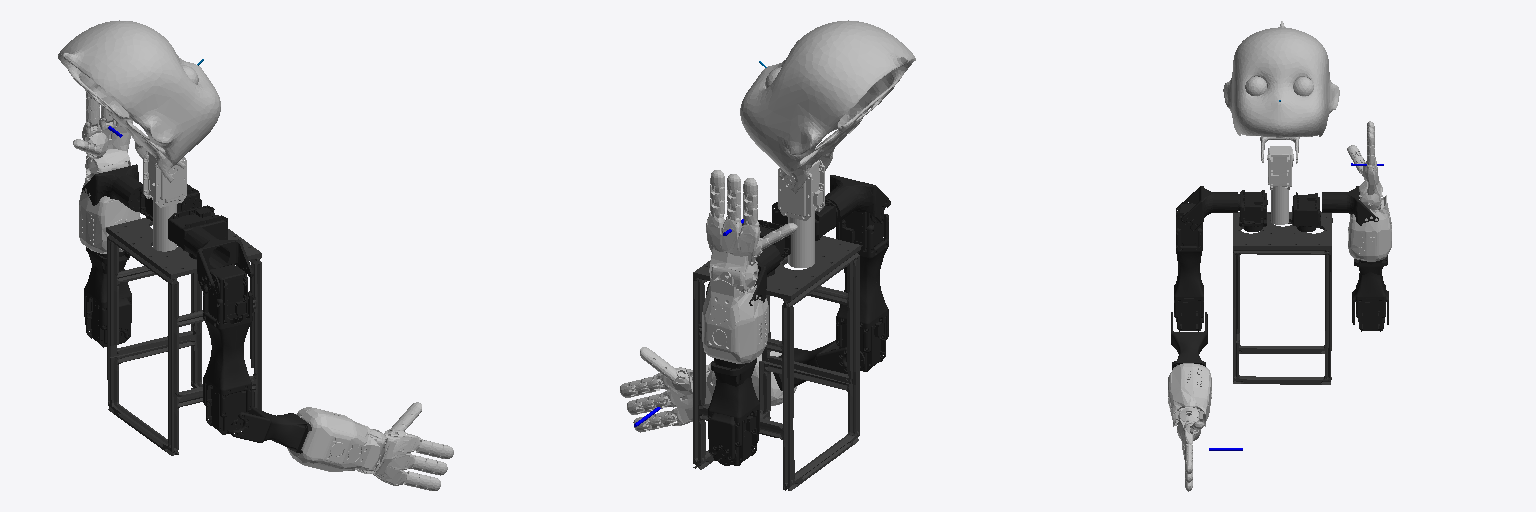
URDF robot description (nico_upper_rh6d):
<?xml version="1.0" ?>
<!-- =================================================================================== -->
<!-- |    This document was manually created   and the meshes resized and repositioned | -->
<!-- |    EDITING THIS FILE BY HAND IS NOT RECOMMENDED                                 | -->
<!-- =================================================================================== -->
<!--
  Copyright (c) 2023, [author]
  All rights reserved.

  This work is licensed under the Creative Commons Attribution-NonCommercial-NoDerivs 3.0 Unported License.
  To view a copy of this license, visit http://creativecommons.org/licenses/by-nc-nd/3.0/ or send a letter to
  Creative Commons, 444 Castro Street, Suite 900, Mountain View, California, 94041, USA.
-->
<robot name="nico_upper_rh6d">
	<link name="world" />
	<link name="torso">
		<visual>
			<geometry>
				<mesh filename="mesh/torso.stl"/>
			</geometry>
			<origin rpy="0 0 0" xyz="0.0 0.0 0.0"/>
			<material name="torso_color">
				<color rgba="0.270588 0.270588 0.270588 1"/>
			</material>
		</visual>
		<inertial>
			<mass value="0.090439"/>
			<inertia ixx="0.00006" ixy="-0" ixz="-0" iyy="0.000056" iyz="-0.000001" izz="0.000019"/>
			<origin rpy="0 0 0" xyz="0 0.000266 0.050352"/>
		</inertial>

	</link>
	<joint name="world_to_base_link" type="fixed">
    	<parent link="world"/>
    	<child link="torso"/>
  	</joint>
    <link name="neck">
		<visual>
			<geometry>
				<mesh filename="mesh/neck.stl"/>
			</geometry>
			<origin rpy="0 0 0" xyz="0.0 0.0 0.0"/>
			<material name="neck_color">
				<color rgba="0.74902 0.74902 0.74902 1"/>
			</material>
		</visual>
		<collision>
			<geometry>
				<mesh filename="mesh/neck.stl"/>
			</geometry>
			<origin rpy="0 0 0" xyz="0.0 0.0 0.0"/>
		</collision>
		<inertial>
			<mass value="0.090439"/>
			<inertia ixx="0.00006" ixy="-0" ixz="-0" iyy="0.000056" iyz="-0.000001" izz="0.000019"/>
			<origin rpy="0 0 0" xyz="0 0.000266 0.050352"/>
		</inertial>
	</link>
	<joint name="head_z" type="fixed">
		<parent link="torso"/>
		<child link="neck"/>
		<origin rpy="0 0 0" xyz="-0.025 0.000 0.23"/>
		<axis xyz="0 0 1"/>
		<limit effort="30" lower="-1.5707" upper="1.5707" velocity="1"/>
	</joint>
	<link name="head">
		<visual>
			<geometry>
				<mesh filename="mesh/head.stl"/>
			</geometry>
			<origin rpy="0 0 0" xyz="0 0 0"/>
			<material name="head_color">
				<color rgba="0.74902 0.74902 0.74902 1"/>
			</material>
		</visual>
		<collision>
			<geometry>
				<mesh filename="mesh/head.stl"/>
			</geometry>
			<origin rpy="0 0 0" xyz="0 0 0"/>
		</collision>
		<inertial>
			<mass value="0.294137"/>
			<inertia ixx="0.001424" ixy="-0" ixz="0.000083" iyy="0.00159" iyz="-0.000002" izz="0.001485"/>
			<origin rpy="0 0 0" xyz="0.01525 -0.023771 0.09423"/>
		</inertial>
	</link>
	<joint name="head_y" type="fixed">
		<parent link="neck"/>
		<child link="head"/>
		<origin rpy="0 -0.69 0" xyz="0 0.0 0.105"/>
		<axis xyz="0 -1 0"/>
		<limit effort="30" lower="-1.483" upper="0" velocity="1"/>
	</joint>
	<link name="sight">
    	<visual>
      		<origin rpy="0 1.67 0" xyz="0.1 0.0 0.06"/>
      		<geometry>
        		<cylinder radius="0.001" length = "0.03"/>
      		</geometry>
    	</visual>
		<inertial>
			<mass value="0.000009"/>
			<inertia ixx="0" ixy="0" ixz="-0" iyy="0" iyz="0" izz="0"/>
			<origin rpy="0 0 0" xyz="0.005409 0.000556 -0.005751"/>
		</inertial>
  	</link>
	<joint name="eyesight" type="fixed">
		<parent link="head"/>
		<child link="sight"/>
		<origin rpy="0 0 0" xyz="0 0.0 0.0"/>
		<axis xyz="0 0 0"/>
		<limit effort="30" lower="-0.8726" upper="0.4363" velocity="1"/>
	</joint>
	
    <!-- ====RIGHT ARM=== -->
	<link name="right_shoulder">
		<visual>
			<geometry>
				<mesh filename="mesh/right_shoulder.stl"/>
			</geometry>
			<origin rpy="0 0 0" xyz="0 0 0"/>
			<material name="right_shoulder_color">
				<color rgba="0.176471 0.176471 0.176471 1"/>
			</material>
		</visual>
		<collision>
			<geometry>
				<mesh filename="mesh/right_shoulder.stl"/>
			</geometry>
			<origin rpy="0 0 0" xyz="0 0 0"/>
		</collision>
		<inertial>
			<mass value="0.084038"/>
			<inertia ixx="0.000026" ixy="-0.000001" ixz="-0.000002" iyy="0.000034" iyz="-0" izz="0.000033"/>
			<origin rpy="0 0 0" xyz="0.005637 0.000876 0.033153"/>
		</inertial>
	</link>
	<joint name="r_shoulder_z_rjoint" type="revolute">
		<parent link="torso"/>
		<child link="right_shoulder"/>
		<origin rpy="0 0 0" xyz="0.000 -0.040 0.23"/>
		<axis xyz="0 0 1"/>
		<limit effort="30" lower="-0.4363" upper="1.3963" velocity="1"/>
	</joint>
	<link name="right_collarbone">
		<visual>
			<geometry>
				<mesh filename="mesh/right_collar.stl"/>
			</geometry>
			<origin rpy="0 0 0" xyz="0 0 0"/>
			<material name="right_collarbone_color">
				<color rgba="0.176471 0.176471 0.176471 1"/>
			</material>
		</visual>
		<collision>
			<geometry>
				<mesh filename="mesh/right_collar.stl"/>
			</geometry>
			<origin rpy="0 0 0" xyz="0 0 0"/>
		</collision>
		<inertial>
			<mass value="0.024811"/>
			<inertia ixx="0.000014" ixy="-0" ixz="0" iyy="0.000011" iyz="-0.000001" izz="0.000019"/>
			<origin rpy="0 0 0" xyz="-0 -0.041345 -0.002364"/>
		</inertial>
	</link>
	<joint name="r_shoulder_y_rjoint" type="revolute">
		<parent link="right_shoulder"/>
		<child link="right_collarbone"/>
		<origin rpy="0 0 0" xyz="-0.021 -0.023 0.033"/>
		<axis xyz="0 -1 0"/>
		<limit effort="30" lower="-1.5707" upper="3.1416" velocity="1"/>
	</joint>
	<link name="right_upper_arm">
		<visual>
			<geometry>
				<mesh filename="mesh/right_upper_arm.stl"/>
			</geometry>
			<origin rpy="0 0 0" xyz="0 0 0"/>
			<material name="right_upper_arm_color">
				<color rgba="0.176471 0.176471 0.176471 1"/>
			</material>
		</visual>
		<collision>
			<geometry>
				<mesh filename="mesh/right_upper_arm.stl"/>
			</geometry>
			<origin rpy="0 0 0" xyz="0 0 0"/>
		</collision>
		<inertial>
			<mass value="0.189729"/>
			<inertia ixx="0.000851" ixy="0" ixz="0" iyy="0.000851" iyz="-0.000005" izz="0.000048"/>
			<origin rpy="0 0 0" xyz="-0.02306 -0.000321 -0.0866"/>
		</inertial>
	</link>
	<joint name="r_arm_x_rjoint" type="revolute">
		<parent link="right_collarbone"/>
		<child link="right_upper_arm"/>
		<origin rpy="0 0 0" xyz="0.00 -0.073 -0.023"/>
		<axis xyz="-1 0 0"/>
		<limit effort="30" lower="0" upper="1.2217" velocity="1"/>
	</joint>
	<link name="right_lower_arm">
		<visual>
			<geometry>
				<mesh filename="mesh/right_lower_arm.stl"/>
			</geometry>
			<origin rpy="0 0 0" xyz="0 0 0"/>
			<material name="right_lower_arm_color">
				<color rgba="0.176471 0.176471 0.176471 1"/>
			</material>
		</visual>
		<collision>
			<geometry>
				<mesh filename="mesh/right_lower_arm.stl"/>
			</geometry>
			<origin rpy="0 0 0" xyz="0 0 0"/>
		</collision>
		<inertial>
			<mass value="0.076793"/>
			<inertia ixx="0.000104" ixy="-0" ixz="-0" iyy="0.000095" iyz="-0.000002" izz="0.000021"/>
			<origin rpy="0 0 0" xyz="0 0.022485 -0.081055"/>
		</inertial>
	</link>
	<joint name="r_elbow_y_rjoint" type="revolute">
		<parent link="right_upper_arm"/>
		<child link="right_lower_arm"/>
		<origin rpy="0 3.14 0" xyz="0.0 0 -0.17"/>
		<axis xyz="0 1 0"/>
		<limit effort="30" lower="0.8726" upper="3.1416" velocity="1"/>
	</joint>
	<link name="right_wrist">
		<visual>
			<geometry>
				<mesh filename="mesh/right_wrist.stl"/>
			</geometry>
			<origin rpy="0 0 0" xyz="0 0 0"/>
			<material name="right_wrist_color">
				<color rgba="0.74902 0.74902 0.74902 1"/>
			</material>
		</visual>
		<collision>
			<geometry>
				<mesh filename="mesh/right_wrist.stl"/>
			</geometry>
			<origin rpy="0 0 0" xyz="0 0 0"/>
		</collision>
		<inertial>
			<mass value="0.028397"/>
			<inertia ixx="0.000043" ixy="-0" ixz="0.000004" iyy="0.000058" iyz="-0.000007" izz="0.000029"/>
			<origin rpy="0 0 0" xyz="0.000031 -0.011056 -0.0675"/>
		</inertial>
	</link>
	<joint name="r_wrist_z_rjoint" type="revolute">
		<parent link="right_lower_arm"/>
		<child link="right_wrist"/>
		<origin rpy="0 0 1.5707" xyz="0 0 -0.105"/>
		<axis xyz="0 0 1"/>
		<limit effort="30" lower="-1.5707" upper="1.5707" velocity="1"/>
	</joint>
	<link name="gripper"> <!--gripper-->
		<visual>
			<geometry>
				<mesh filename="mesh/right_palm.stl"/>
			</geometry>
			<origin rpy="0 0 0" xyz="0 0 0"/>
			<material name="gripper_color">
				<color rgba="0.74902 0.74902 0.74902 1"/>
			</material>
		</visual>
		<!--
		<collision>
			<geometry>
				<mesh filename="mesh/right_palm.stl"/>
			</geometry>
			<origin rpy="0 0 0" xyz="0 0 0"/>
		</collision>
		-->
		<inertial>
			<mass value="0.005332"/>
			<inertia ixx="0.000015" ixy="0.000001" ixz="-0.000004" iyy="0.000017" iyz="0.000004" izz="0.000006"/>
			<origin rpy="0 0 0" xyz="-0.029511 0.002253 -0.023968"/>
		</inertial>
	</link>
	<joint name="r_wrist_x_rjoint" type="revolute">
		<parent link="right_wrist"/>
		<child link="gripper"/>
		<origin rpy="0 0 0" xyz="0 0 -0.10"/>
		<axis xyz="0 -1 0"/>
		<limit effort="30" lower="-0.785398163" upper="0.785398163" velocity="1"/>
	</joint>
	<link name="endeffector">
    	<visual>
      		<origin rpy="0 0 0" xyz="0 0.0 -0.025"/> <!-- Updated position -->
      		<geometry>
        		<cylinder length="0.05" radius="0.002"/>
      		</geometry>
			<material name="blue">
      			<color rgba="0 0 1 0.5"/> <!-- RGBA: Red Green Blue Alpha (opacity) -->
    		</material>
    	</visual>
        <inertial>
		    <mass value="0.0000332"/>
		    <inertia ixx="0.000015" ixy="0.000001" ixz="-0.000004" iyy="0.000017" iyz="0.000004" izz="0.000006"/>
		</inertial>
  	</link>
	<joint name="endeffector_joint" type="fixed">
    	<parent link="gripper"/>
    	<child link="endeffector"/>
    	<origin rpy="3.14 1.57 0" xyz="0.03 0.0 -0.05"/>
	</joint>

	<link name="r_middlefinger">
		<visual>
			<geometry>
				<mesh filename="mesh/finger.stl"/>
			</geometry>
			<origin rpy="0 0 0" xyz="0 0 0"/>
			<material name="finger_color">
				<color rgba="0.74902 0.74902 0.74902 1"/>
			</material>
		</visual>
		<!--
		<collision>
			<geometry>
				<mesh filename="mesh/finger.stl"/>
			</geometry>
			<origin rpy="0 0 0" xyz="0 0 0"/>
		</collision>
		-->
		<inertial>
			<mass value="0.01"/>  <!-- 10 g -->
            <inertia ixx="1e-5" iyy="1e-5" izz="1e-5" ixy="0" ixz="0" iyz="0"/>
			<origin rpy="0 0 0" xyz="0.005409 0.000556 -0.005751"/>
		</inertial>
	</link>

	<link name="r_littlefinger">
		<visual>
			<geometry>
				<mesh filename="mesh/finger.stl"/>
			</geometry>
			<origin rpy="0 0 0" xyz="0 0 0"/>
			<material name="finger_color">
				<color rgba="0.74902 0.74902 0.74902 1"/>
			</material>
		</visual>
		<!--
		<collision>
			<geometry>
				<mesh filename="mesh/finger.stl"/>
			</geometry>
			<origin rpy="0 0 0" xyz="0 0 0"/>
		</collision>
		-->
		<inertial>
			<mass value="0.01"/>  <!-- 10 g -->
            <inertia ixx="1e-5" iyy="1e-5" izz="1e-5" ixy="0" ixz="0" iyz="0"/>
			<origin rpy="0 0 0" xyz="0.005409 0.000556 -0.005751"/>
		</inertial>
	</link>
	<link name="r_indexfinger"> <!--indexfinder-->
		<visual>
			<geometry>
				<mesh filename="mesh/finger.stl"/>
			</geometry>
			<origin rpy="0 0 0" xyz="0 0 0"/>
			<material name="finger_color">
				<color rgba="0.74902 0.74902 0.74902 1"/>
			</material>
		</visual>
		<!--
		<collision>
			<geometry>
				<mesh filename="mesh/finger.stl"/>
			</geometry>
			<origin rpy="0 0 0" xyz="0 0 0"/>
		</collision>
		-->
		<inertial>
			<mass value="0.01"/>  <!-- 10 g -->
            <inertia ixx="1e-5" iyy="1e-5" izz="1e-5" ixy="0" ixz="0" iyz="0"/>
			<origin rpy="0 0 0" xyz="0.005409 0.000556 -0.005751"/>
		</inertial>
	</link>
	<joint name="r_middlefingers_x_gjoint" type="revolute">
		<parent link="gripper"/>
		<child link="r_middlefinger"/>
		<origin rpy="0 0 0" xyz="0 0 -0.06"/>
		<axis xyz="0 1 0"/>
		<limit effort="30" lower="-2.57" upper="0" velocity="10"/>
	</joint>
	<joint name="r_litlefinger_x_gjoint" type="revolute">
		<parent link="gripper"/>
		<child link="r_littlefinger"/>
		<origin rpy="0 0 0" xyz="0.00 0.02 -0.06"/>
		<axis xyz="0 1 0"/>
		<limit effort="30" lower="-2.57" upper="0" velocity="10"/>
	</joint>
	<joint name="r_indexfinger_x_gjoint" type="revolute">
		<parent link="gripper"/>
		<child link="r_indexfinger"/>
		<origin rpy="0 0 0" xyz="0.00 -0.02 -0.06"/>
		<axis xyz="0 1 0"/>
		<limit effort="30" lower="-2.57" upper="0" velocity="10"/>
	</joint>
    <link name="right_thumb">
		<visual>
			<geometry>
				<mesh filename="mesh/finger.stl"/>
			</geometry>
			<origin rpy="0 0 0" xyz="0 0 0"/>
			<material name="finger_color">
				<color rgba="0.74902 0.74902 0.74902 1"/>
			</material>
		</visual>
		<!--
		<collision>
			<geometry>
				<mesh filename="mesh/finger.stl"/>
			</geometry>
			<origin rpy="0 0 0" xyz="0 0 0"/>
		</collision>
		-->
		<inertial>
			<mass value="0.01"/>  <!-- 10 g -->
            <inertia ixx="1e-5" iyy="1e-5" izz="1e-5" ixy="0" ixz="0" iyz="0"/>
			<origin rpy="0 0 0" xyz="0.005409 0.000556 -0.005751"/>
		</inertial>
	</link>
    
    <link name="thumb_intermediate_link">
        <inertial>
		    <mass value="0.0000332"/>
		    <inertia ixx="0.000015" ixy="0.000001" ixz="-0.000004" iyy="0.000017" iyz="0.000004" izz="0.000006"/>
		</inertial>
    </link>
    <joint name="r_thumb_x_joint" type="fixed">
        <parent link="gripper"/>
        <child link="thumb_intermediate_link"/>
        <origin rpy="-0.3 1 1.4" xyz="0.008 -0.020 -0.028"/>
        <axis xyz="2 1 0"/>
        <limit effort="30" lower="-2.57" upper="0" velocity="100"/>
    </joint>

    <joint name="r_thumb_z_gjoint" type="fixed">
        <parent link="thumb_intermediate_link"/>
        <child link="right_thumb"/>
        <origin rpy="0 0 0" xyz="0 0 0"/>
        <axis xyz="0 1 0"/>
        <limit effort="70" lower="-2.57" upper="0" velocity="100"/>
    </joint>
    <!-- ====LEFT ARM=== -->
    <link name="left_shoulder">
		<visual>
			<geometry>
				<mesh filename="mesh/left_shoulder.stl"/>
			</geometry>
			<origin rpy="0 0 0" xyz="0 0 0"/>
			<material name="left_shoulder_color">
				<color rgba="0.176471 0.176471 0.176471 1"/>
			</material>
		</visual>
		<collision>
			<geometry>
				<mesh filename="mesh/left_shoulder.stl"/>
			</geometry>
			<origin rpy="0 0 0" xyz="0 0 0"/>
		</collision>
		<inertial>
			<mass value="0.084038"/>
			<inertia ixx="0.000026" ixy="-0.000001" ixz="-0.000002" iyy="0.000034" iyz="-0" izz="0.000033"/>
			<origin rpy="0 0 0" xyz="0.005637 0.000876 0.033153"/>
		</inertial>
	</link>
	<joint name="l_shoulder_z" type="fixed">
		<parent link="torso"/>
		<child link="left_shoulder"/>
		<origin rpy="0 0 0" xyz="0.000 0.040 0.23"/>
		<axis xyz="0 0 -1"/>
		<limit effort="30" lower="-0.4363" upper="1.3963" velocity="1"/>
	</joint>
	<link name="left_collarbone">
		<visual>
			<geometry>
				<mesh filename="mesh/left_collar.stl"/>
			</geometry>
			<origin rpy="0 0 0" xyz="0 0 0"/>
			<material name="right_collarbone_color">
				<color rgba="0.176471 0.176471 0.176471 1"/>
			</material>
		</visual>
		<collision>
			<geometry>
				<mesh filename="mesh/left_collar.stl"/>
			</geometry>
			<origin rpy="0 0 0" xyz="0 0 0"/>
		</collision>
		<inertial>
			<mass value="0.024811"/>
			<inertia ixx="0.000014" ixy="-0" ixz="0" iyy="0.000011" iyz="-0.000001" izz="0.000019"/>
			<origin rpy="0 0 0" xyz="-0 -0.041345 -0.002364"/>
		</inertial>
	</link>
	<joint name="l_shoulder_y" type="fixed">
		<parent link="left_shoulder"/>
		<child link="left_collarbone"/>
		<origin rpy="0 0 0" xyz="-0.021 0.023 0.033"/>
		<axis xyz="0 -1 0"/>
		<limit effort="30" lower="-1.5707" upper="3.1416" velocity="1"/>
	</joint>
	<link name="left_upper_arm">
		<visual>
			<geometry>
				<mesh filename="mesh/right_upper_arm.stl"/>
			</geometry>
			<origin rpy="0 0 0" xyz="0 0 0"/>
			<material name="right_upper_arm_color">
				<color rgba="0.176471 0.176471 0.176471 1"/>
			</material>
		</visual>
		<collision>
			<geometry>
				<mesh filename="mesh/right_upper_arm.stl"/>
			</geometry>
			<origin rpy="0 0 0" xyz="0 0 0"/>
		</collision>
		<inertial>
			<mass value="0.189729"/>
			<inertia ixx="0.000851" ixy="0" ixz="0" iyy="0.000851" iyz="-0.000005" izz="0.000048"/>
			<origin rpy="0 0 0" xyz="-0.02306 -0.000321 -0.0866"/>
		</inertial>
	</link>
	<joint name="l_arm_x" type="fixed">
		<parent link="left_collarbone"/>
		<child link="left_upper_arm"/>
		<origin rpy="0 0 0" xyz="0.00 0.073 -0.023"/>
		<axis xyz="1 0 0"/>
		<limit effort="30" lower="0" upper="1.2217" velocity="1"/>
	</joint>
	<link name="left_lower_arm">
		<visual>
			<geometry>
				<mesh filename="mesh/right_lower_arm.stl"/>
			</geometry>
			<origin rpy="0 0 0" xyz="0 0 0"/>
			<material name="right_lower_arm_color">
				<color rgba="0.176471 0.176471 0.176471 1"/>
			</material>
		</visual>
		<collision>
			<geometry>
				<mesh filename="mesh/right_lower_arm.stl"/>
			</geometry>
			<origin rpy="0 0 0" xyz="0 0 0"/>
		</collision>
		<inertial>
			<mass value="0.076793"/>
			<inertia ixx="0.000104" ixy="-0" ixz="-0" iyy="0.000095" iyz="-0.000002" izz="0.000021"/>
			<origin rpy="0 0 0" xyz="0 0.022485 -0.081055"/>
		</inertial>
	</link>
	<joint name="l_elbow_y" type="fixed">
		<parent link="left_upper_arm"/>
		<child link="left_lower_arm"/>
		<origin rpy="0 3.14 0" xyz="0.0 0 -0.17"/>
		<axis xyz="0 1 0"/>
		<limit effort="30" lower="0.8726" upper="3.1416" velocity="1"/>
	</joint>
	<link name="left_wrist">
		<visual>
			<geometry>
				<mesh filename="mesh/left_wrist.stl"/>
			</geometry>
			<origin rpy="0 0 0" xyz="0 0 0"/>
			<material name="right_wrist_color">
				<color rgba="0.74902 0.74902 0.74902 1"/>
			</material>
		</visual>
		<collision>
			<geometry>
				<mesh filename="mesh/left_wrist.stl"/>
			</geometry>
			<origin rpy="0 0 0" xyz="0 0 0"/>
		</collision>
		<inertial>
			<mass value="0.028397"/>
			<inertia ixx="0.000043" ixy="-0" ixz="0.000004" iyy="0.000058" iyz="-0.000007" izz="0.000029"/>
			<origin rpy="0 0 0" xyz="0.000031 -0.011056 -0.0675"/>
		</inertial>
	</link>
	<joint name="l_wrist_z" type="fixed">
		<parent link="left_lower_arm"/>
		<child link="left_wrist"/>
		<origin rpy="0 0 1.5707" xyz="0 0 -0.105"/>
		<axis xyz="0 0 -1"/>
		<limit effort="30" lower="-1.5707" upper="1.5707" velocity="1"/>
	</joint>
	<link name="left_palm"> <!--gripper-->
		<visual>
			<geometry>
				<mesh filename="mesh/left_palm.stl"/>
			</geometry>
			<origin rpy="0 0 0" xyz="0 0 0"/>
			<material name="gripper_color">
				<color rgba="0.74902 0.74902 0.74902 1"/>
			</material>
		</visual>
		<collision>
			<geometry>
				<mesh filename="mesh/left_palm.stl"/>
			</geometry>
			<origin rpy="0 0 0" xyz="0 0 0"/>
		</collision>
		<inertial>
			<mass value="0.005332"/>
			<inertia ixx="0.000015" ixy="0.000001" ixz="-0.000004" iyy="0.000017" iyz="0.000004" izz="0.000006"/>
			<origin rpy="0 0 0" xyz="-0.029511 0.002253 -0.023968"/>
		</inertial>
	</link>
	<joint name="l_wrist_x" type="fixed">
		<parent link="left_wrist"/>
		<child link="left_palm"/>
		<origin rpy="0 0 0" xyz="0 0 -0.10"/>
		<axis xyz="0 1 0"/>
		<limit effort="30" lower="-.78" upper="0.78" velocity="1"/>
	</joint>
    <link name="endeffectol">
		<visual>
      		<origin rpy="0 0 0" xyz="0 0.0 0.025"/> <!-- Updated position -->
      		<geometry>
        		<cylinder length="0.05" radius="0.002"/>
      		</geometry>
			<material name="blue">
      			<color rgba="0 0 1 0.5"/> <!-- RGBA: Red Green Blue Alpha (opacity) -->
    		</material>
    	</visual>
        <inertial>
		    <mass value="0.0000332"/>
		    <inertia ixx="0.000015" ixy="0.000001" ixz="-0.000004" iyy="0.000017" iyz="0.000004" izz="0.000006"/>
		</inertial>
  	</link>
	<joint name="endeffectol_joint" type="fixed">
    	<parent link="left_palm"/>
    	<child link="endeffectol"/>
    	<origin rpy="3.14 1.57 -3.14" xyz="-0.03 0.0 -0.05"/>
	</joint>
	<link name="l_middlefinger">
		<visual>
			<geometry>
				<mesh filename="mesh/finger.stl"/>
			</geometry>
			<origin rpy="0 0 0" xyz="0 0 0"/>
			<material name="finger_color">
				<color rgba="0.74902 0.74902 0.74902 1"/>
			</material>
		</visual>
		<collision>
			<geometry>
				<mesh filename="mesh/finger.stl"/>
			</geometry>
			<origin rpy="0 0 0" xyz="0 0 0"/>
		</collision>
		<inertial>
			<mass value="0.000009"/>
			<inertia ixx="0" ixy="0" ixz="-0" iyy="0" iyz="0" izz="0"/>
			<origin rpy="0 0 0" xyz="0.005409 0.000556 -0.005751"/>
		</inertial>
	</link>
	<link name="l_littlefinger">
		<visual>
			<geometry>
				<mesh filename="mesh/finger.stl"/>
			</geometry>
			<origin rpy="0 0 0" xyz="0 0 0"/>
			<material name="finger_color">
				<color rgba="0.74902 0.74902 0.74902 1"/>
			</material>
		</visual>
		<collision>
			<geometry>
				<mesh filename="mesh/finger.stl"/>
			</geometry>
			<origin rpy="0 0 0" xyz="0 0 0"/>
		</collision>
		<inertial>
			<mass value="0.000009"/>
			<inertia ixx="0" ixy="0" ixz="-0" iyy="0" iyz="0" izz="0"/>
			<origin rpy="0 0 0" xyz="0.005409 0.000556 -0.005751"/>
		</inertial>
	</link>
	<link name="l_indexfinger"> <!--indexfinder-->
		<visual>
			<geometry>
				<mesh filename="mesh/finger.stl"/>
			</geometry>
			<origin rpy="0 0 0" xyz="0 0 0"/>
			<material name="finger_color">
				<color rgba="0.74902 0.74902 0.74902 1"/>
			</material>
		</visual>
		<collision>
			<geometry>
				<mesh filename="mesh/finger.stl"/>
			</geometry>
			<origin rpy="0 0 0" xyz="0 0 0"/>
		</collision>
		<inertial>
			<mass value="0.000009"/>
			<inertia ixx="0" ixy="0" ixz="-0" iyy="0" iyz="0" izz="0"/>
			<origin rpy="0 0 0" xyz="0.005409 0.000556 -0.005751"/>
		</inertial>
	</link>
	<joint name="l_middlefingers_x" type="fixed">
		<parent link="left_palm"/>
		<child link="l_middlefinger"/>
		<origin rpy="0 0 0" xyz="0 0 -0.06"/>
		<axis xyz="0 1 0"/>
		<limit effort="30" lower="-2.57" upper="0" velocity="1"/>
	</joint>
	<joint name="l_litlefinger_x" type="fixed">
		<parent link="left_palm"/>
		<child link="l_littlefinger"/>
		<origin rpy="0 0 0" xyz="0.00 0.02 -0.06"/>
		<axis xyz="0 1 0"/>
		<limit effort="30" lower="-2.57" upper="0" velocity="1"/>
	</joint>
	<joint name="l_indexfinger_x" type="fixed">
		<parent link="left_palm"/>
		<child link="l_indexfinger"/>
		<origin rpy="0 0 0" xyz="0.00 -0.02 -0.06"/>
		<axis xyz="0 1 0"/>
		<limit effort="30" lower="0" upper="2.57" velocity="1"/>
	</joint>
	<link name="left_thumb">
		<visual>
			<geometry>
				<mesh filename="mesh/finger.stl"/>
			</geometry>
			<origin rpy="0 0 0" xyz="0 0 0"/>
			<material name="finger_color">
				<color rgba="0.74902 0.74902 0.74902 1"/>
			</material>
		</visual>
		<collision>
			<geometry>
				<mesh filename="mesh/finger.stl"/>
			</geometry>
			<origin rpy="0 0 0" xyz="0 0 0"/>
		</collision>
		<inertial>
			<mass value="0.000009"/>
			<inertia ixx="0" ixy="0" ixz="-0" iyy="0" iyz="0" izz="0"/>
			<origin rpy="0 0 0" xyz="0.005409 0.000556 -0.005751"/>
		</inertial>
	</link>
    
    <link name="l_thumb_intermediate_link">
        <inertial>
		    <mass value="0.0000332"/>
		    <inertia ixx="0.000015" ixy="0.000001" ixz="-0.000004" iyy="0.000017" iyz="0.000004" izz="0.000006"/>
		</inertial>
    </link>
    <joint name="l_thumb_x" type="fixed">
        <parent link="left_palm"/>
        <child link="l_thumb_intermediate_link"/>
        <origin rpy="0.3 1 1.4" xyz="-0.008 -0.020 -0.028"/>
        <axis xyz="2 1 0"/>
        <limit effort="30" lower="-2.57" upper="0" velocity="1"/>
    </joint>

    <joint name="l_thumb_z" type="fixed">
        <parent link="l_thumb_intermediate_link"/>
        <child link="left_thumb"/>
        <origin rpy="0 0 0" xyz="0 0 0"/>
        <axis xyz="0 1 0"/>
        <limit effort="30" lower="-2.57" upper="0" velocity="1"/>
    </joint>
</robot>

--- Facts derived from the render (not from the file) ---
Views: 3 orthographic renders of the robot side by side, from view 1: azimuth 30°, elevation 25°; view 2: azimuth 150°, elevation 25°; view 3: azimuth 270°, elevation 25°.
Model nico_upper_rh6d with 29 links and 28 joints (9 revolute, 19 fixed), rooted at world, posed all joints at 0 but 1 set to mid-range because 0 is outside their limits (r_elbow_y_rjoint = 2.01).
Links seen in each view (by area): view 1: head, torso, right_upper_arm, right_wrist, neck, left_wrist, right_collarbone, right_lower_arm, gripper, left_upper_arm, left_palm, left_collarbone (+3 smaller); view 2: head, torso, left_wrist, right_upper_arm, neck, left_upper_arm, left_palm, right_collarbone, left_lower_arm, gripper, right_lower_arm, right_shoulder (+8 smaller); view 3: head, torso, right_upper_arm, right_wrist, left_wrist, neck, left_upper_arm, right_collarbone, left_collarbone, right_lower_arm, right_shoulder, left_shoulder (+3 smaller).
Boxes of the visible links, <box> form: head: <box>58,20,220,182</box>; torso: <box>106,218,261,455</box>; right_upper_arm: <box>203,264,252,434</box>; right_wrist: <box>287,407,385,471</box>; neck: <box>143,145,186,251</box>; left_wrist: <box>79,159,140,253</box>; right_collarbone: <box>184,227,253,293</box>; right_lower_arm: <box>231,406,311,453</box>; gripper: <box>355,429,420,485</box>; left_upper_arm: <box>84,251,131,347</box>; left_palm: <box>82,117,132,179</box>; left_collarbone: <box>82,164,142,211</box>; head: <box>740,20,915,193</box>; torso: <box>693,236,860,490</box>; left_wrist: <box>702,265,768,363</box>; right_upper_arm: <box>836,209,888,371</box>; neck: <box>778,160,824,267</box>; left_upper_arm: <box>708,358,759,465</box>; left_palm: <box>706,212,762,287</box>; right_collarbone: <box>825,175,890,223</box>; left_lower_arm: <box>709,358,758,460</box>; gripper: <box>653,365,708,425</box>; right_lower_arm: <box>773,339,847,390</box>; right_shoulder: <box>772,199,837,240</box>; head: <box>1223,21,1339,163</box>; torso: <box>1233,212,1332,384</box>; right_upper_arm: <box>1174,203,1203,331</box>; right_wrist: <box>1168,363,1211,426</box>; left_wrist: <box>1348,194,1391,261</box>; neck: <box>1267,146,1293,224</box>; left_upper_arm: <box>1356,260,1385,331</box>; right_collarbone: <box>1181,186,1237,230</box>; left_collarbone: <box>1322,186,1378,225</box>; right_lower_arm: <box>1171,312,1207,369</box>; right_shoulder: <box>1238,190,1267,231</box>; left_shoulder: <box>1292,192,1320,231</box>.
Bounding box of the posed robot: 0.4327 × 0.3362 × 0.6044 m (x, y, z).
Meshes: 14 distinct files referenced, 23 mesh visuals loaded (14 binary STL).
